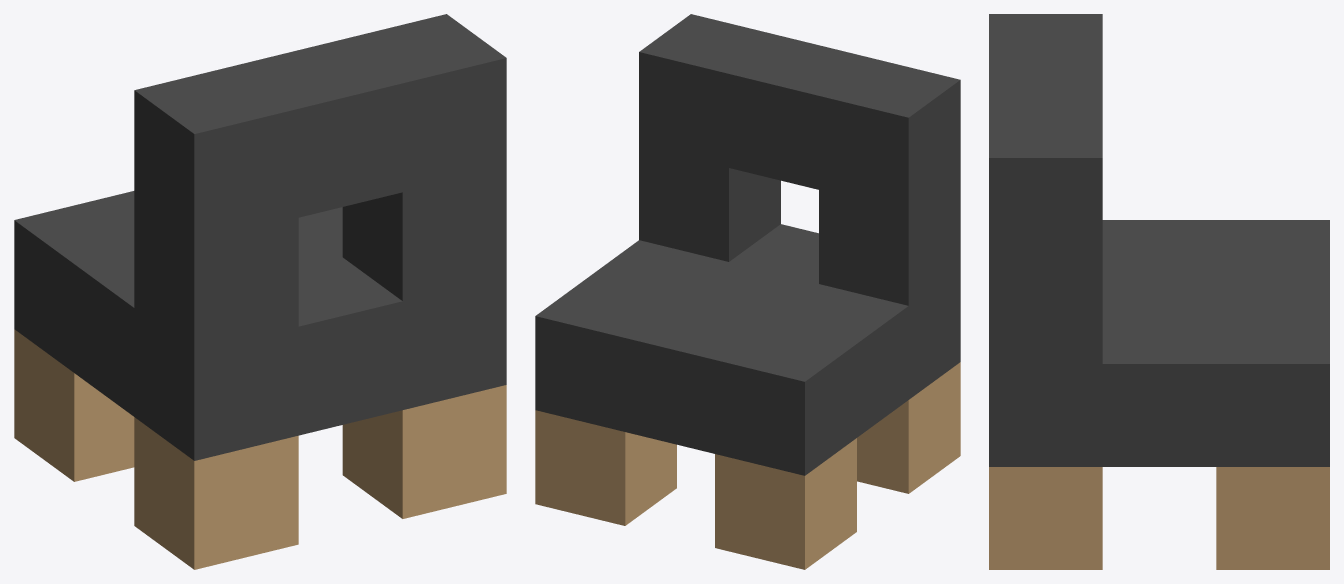
Rendered from Corner Cafe-7.obj.
3 views of the same model, side by side, from view 1: azimuth 30°, elevation 25°; view 2: azimuth 150°, elevation 25°; view 3: azimuth 270°, elevation 25° (orthographic). The views are drawn at different scales.
Size of the model in its own units: 0.3 by 0.4 by 0.3.
Materials: 1 (1 with a texture image).
